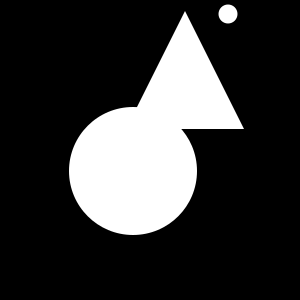rectangle: (69, 107, 197, 235), (219, 4, 238, 24)
triangle: (126, 11, 244, 129)
